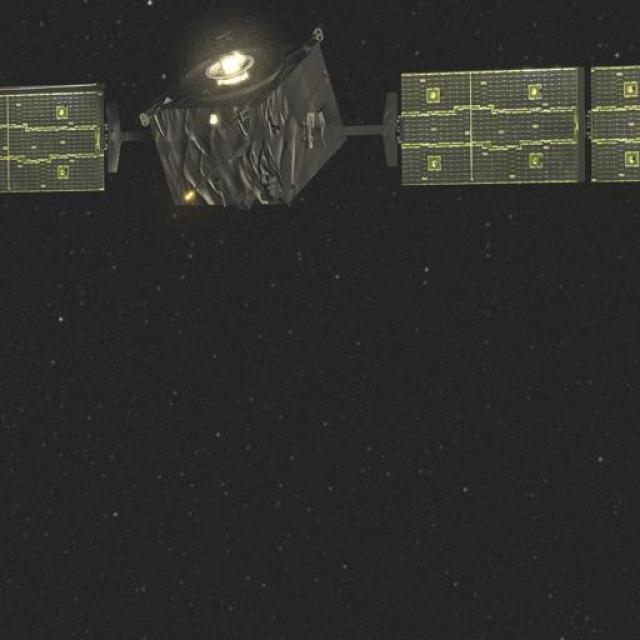smart_1: (84, 27, 484, 226)
